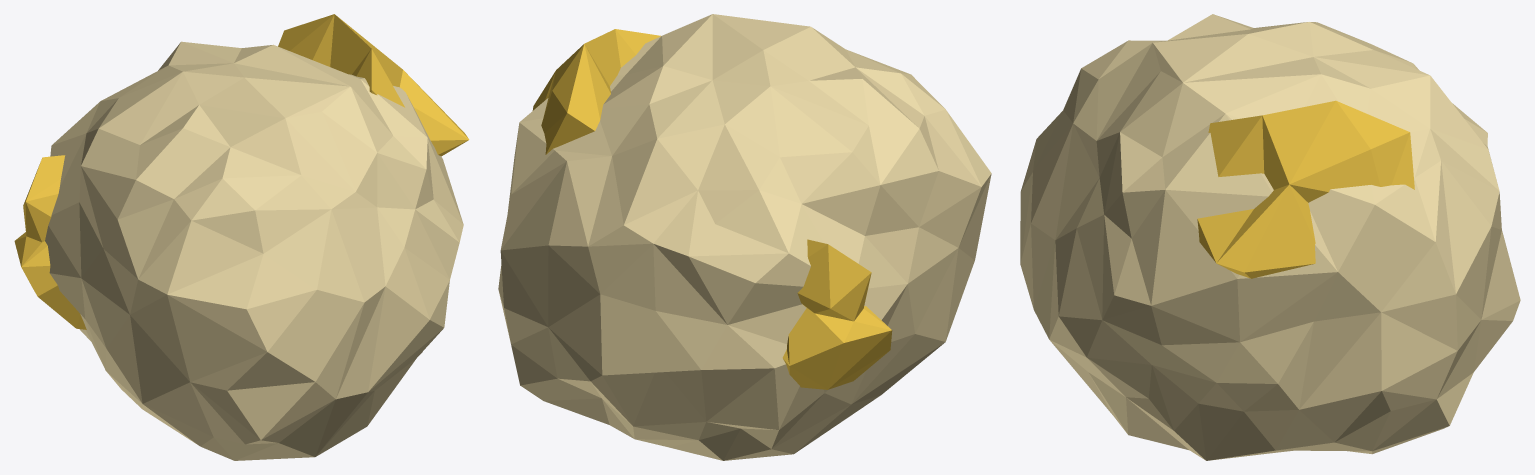
Rendered from MetalOre (1).fbx.
3 renders of one model, left to right at view 1: azimuth 30°, elevation 25°; view 2: azimuth 150°, elevation 25°; view 3: azimuth 270°, elevation 25°, orthographic. The views are drawn at different scales.
Parts seen in each view (by area): view 1: Asteroid356; view 2: Asteroid356; view 3: Asteroid356.
Part boxes in pixels (x1=…): Asteroid356: x1=14, y1=14, x2=469, y2=460; Asteroid356: x1=498, y1=14, x2=991, y2=460; Asteroid356: x1=1020, y1=14, x2=1520, y2=460.
Size of the model in its own units: 607 by 536 by 604.
